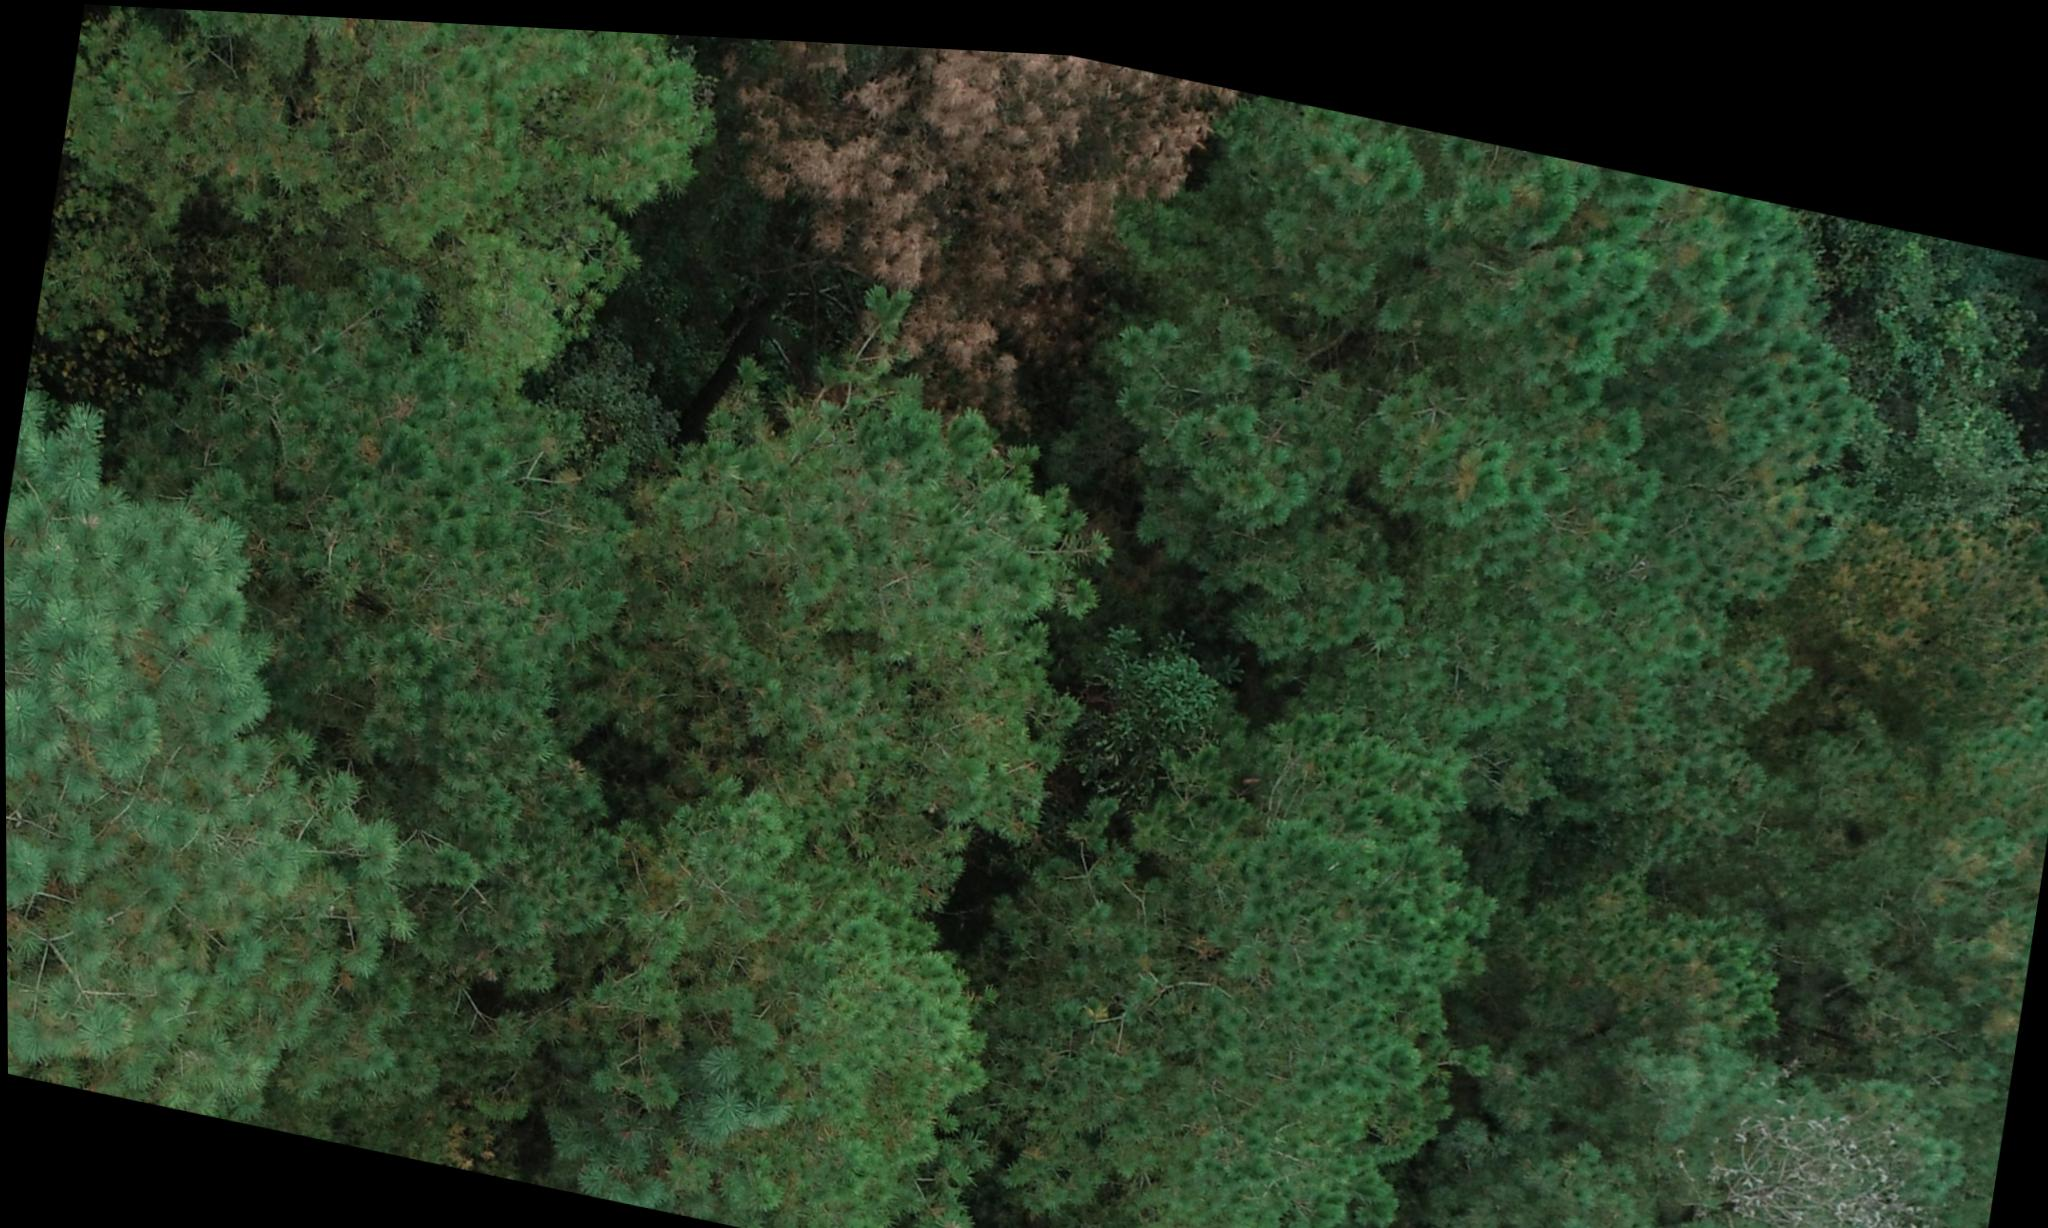heavy: (668, 28, 1209, 459)
